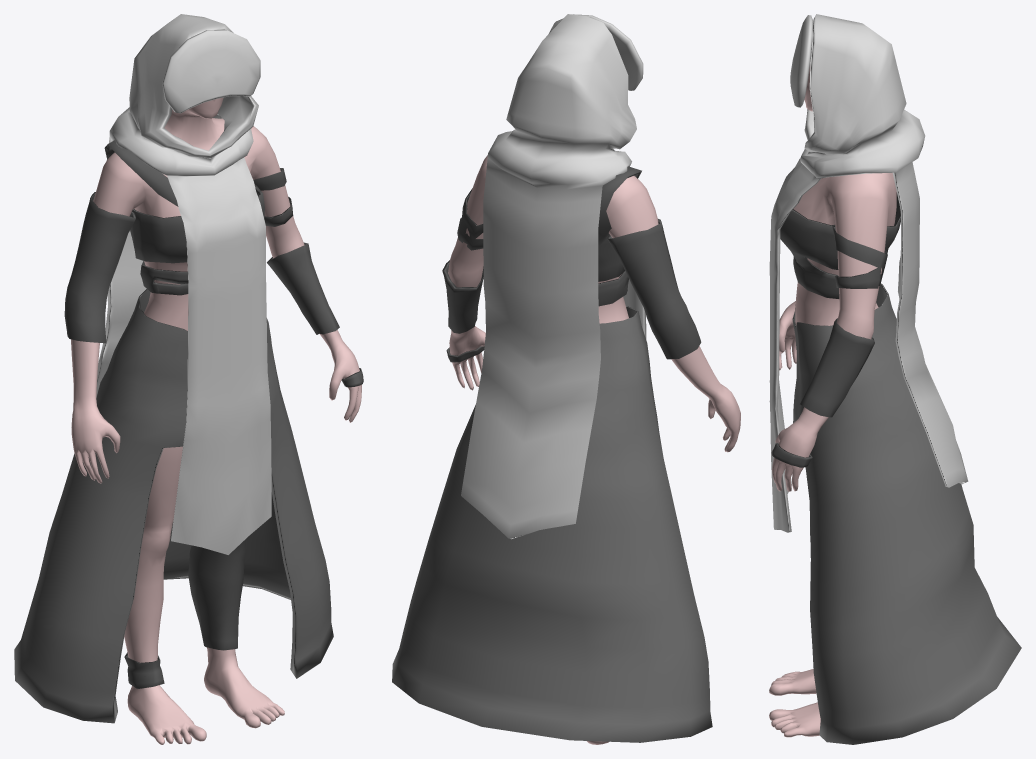
Rendered from rp_character_cultist_bandage_uv2.fbx.
3 renders of one model, left to right at view 1: azimuth 30°, elevation 25°; view 2: azimuth 150°, elevation 25°; view 3: azimuth 270°, elevation 25°, orthographic.
Parts seen in each view (by area): view 1: polySurface10, polySurface12, polySurface14, polySurface17; view 2: polySurface12, polySurface10, polySurface17, polySurface14; view 3: polySurface12, polySurface10, polySurface14, polySurface17.
Boxes of the visible parts, bbox=[...] form: polySurface10: bbox=[96, 14, 271, 554]; polySurface12: bbox=[14, 289, 333, 723]; polySurface14: bbox=[71, 97, 361, 744]; polySurface17: bbox=[64, 140, 363, 688]; polySurface12: bbox=[392, 306, 712, 742]; polySurface10: bbox=[461, 14, 646, 539]; polySurface17: bbox=[442, 166, 701, 362]; polySurface14: bbox=[448, 155, 740, 744]; polySurface12: bbox=[792, 283, 1021, 744]; polySurface10: bbox=[769, 14, 968, 532]; polySurface14: bbox=[769, 64, 896, 737]; polySurface17: bbox=[771, 192, 900, 467].
Bounding box in the file's own units: 118 × 263 × 87.39.
